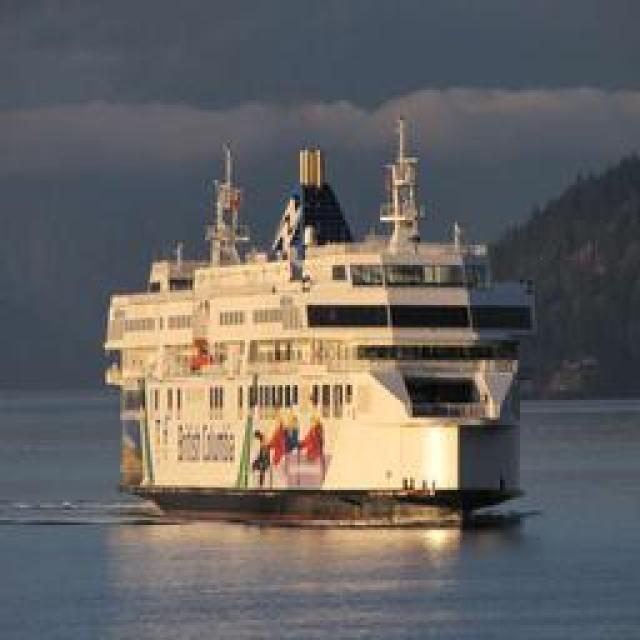ship2: (103, 118, 537, 527)
